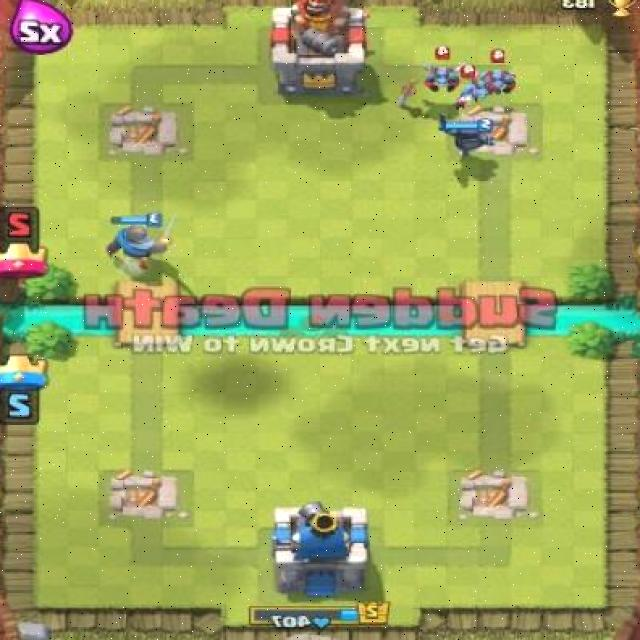Enemy-Minion: (420, 44, 467, 97), (450, 63, 500, 112), (474, 47, 517, 98)
Player-Knight: (102, 210, 179, 272)
Player-MiniPEKKA: (433, 110, 500, 160)
